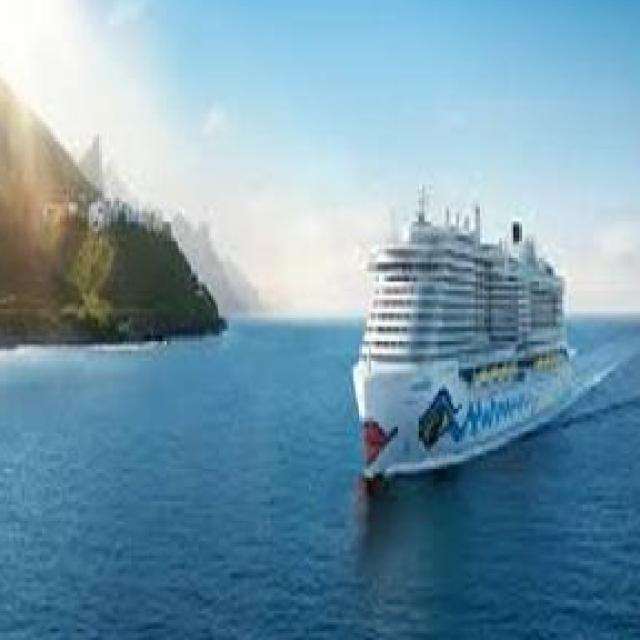passenger ship: (346, 195, 582, 482)
